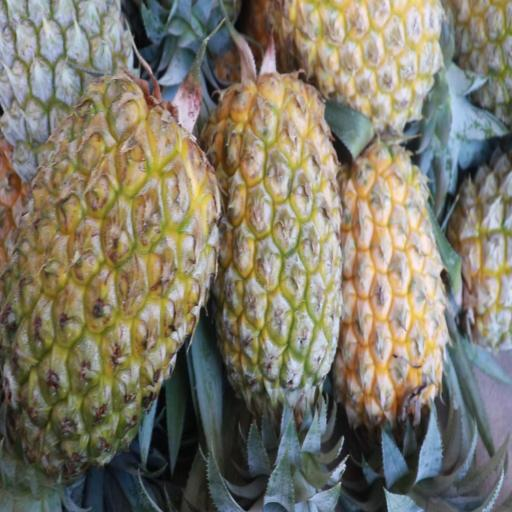Pineapple - v8 v1: (2, 77, 210, 473), (208, 68, 340, 400), (337, 146, 451, 421), (276, 0, 443, 128)
